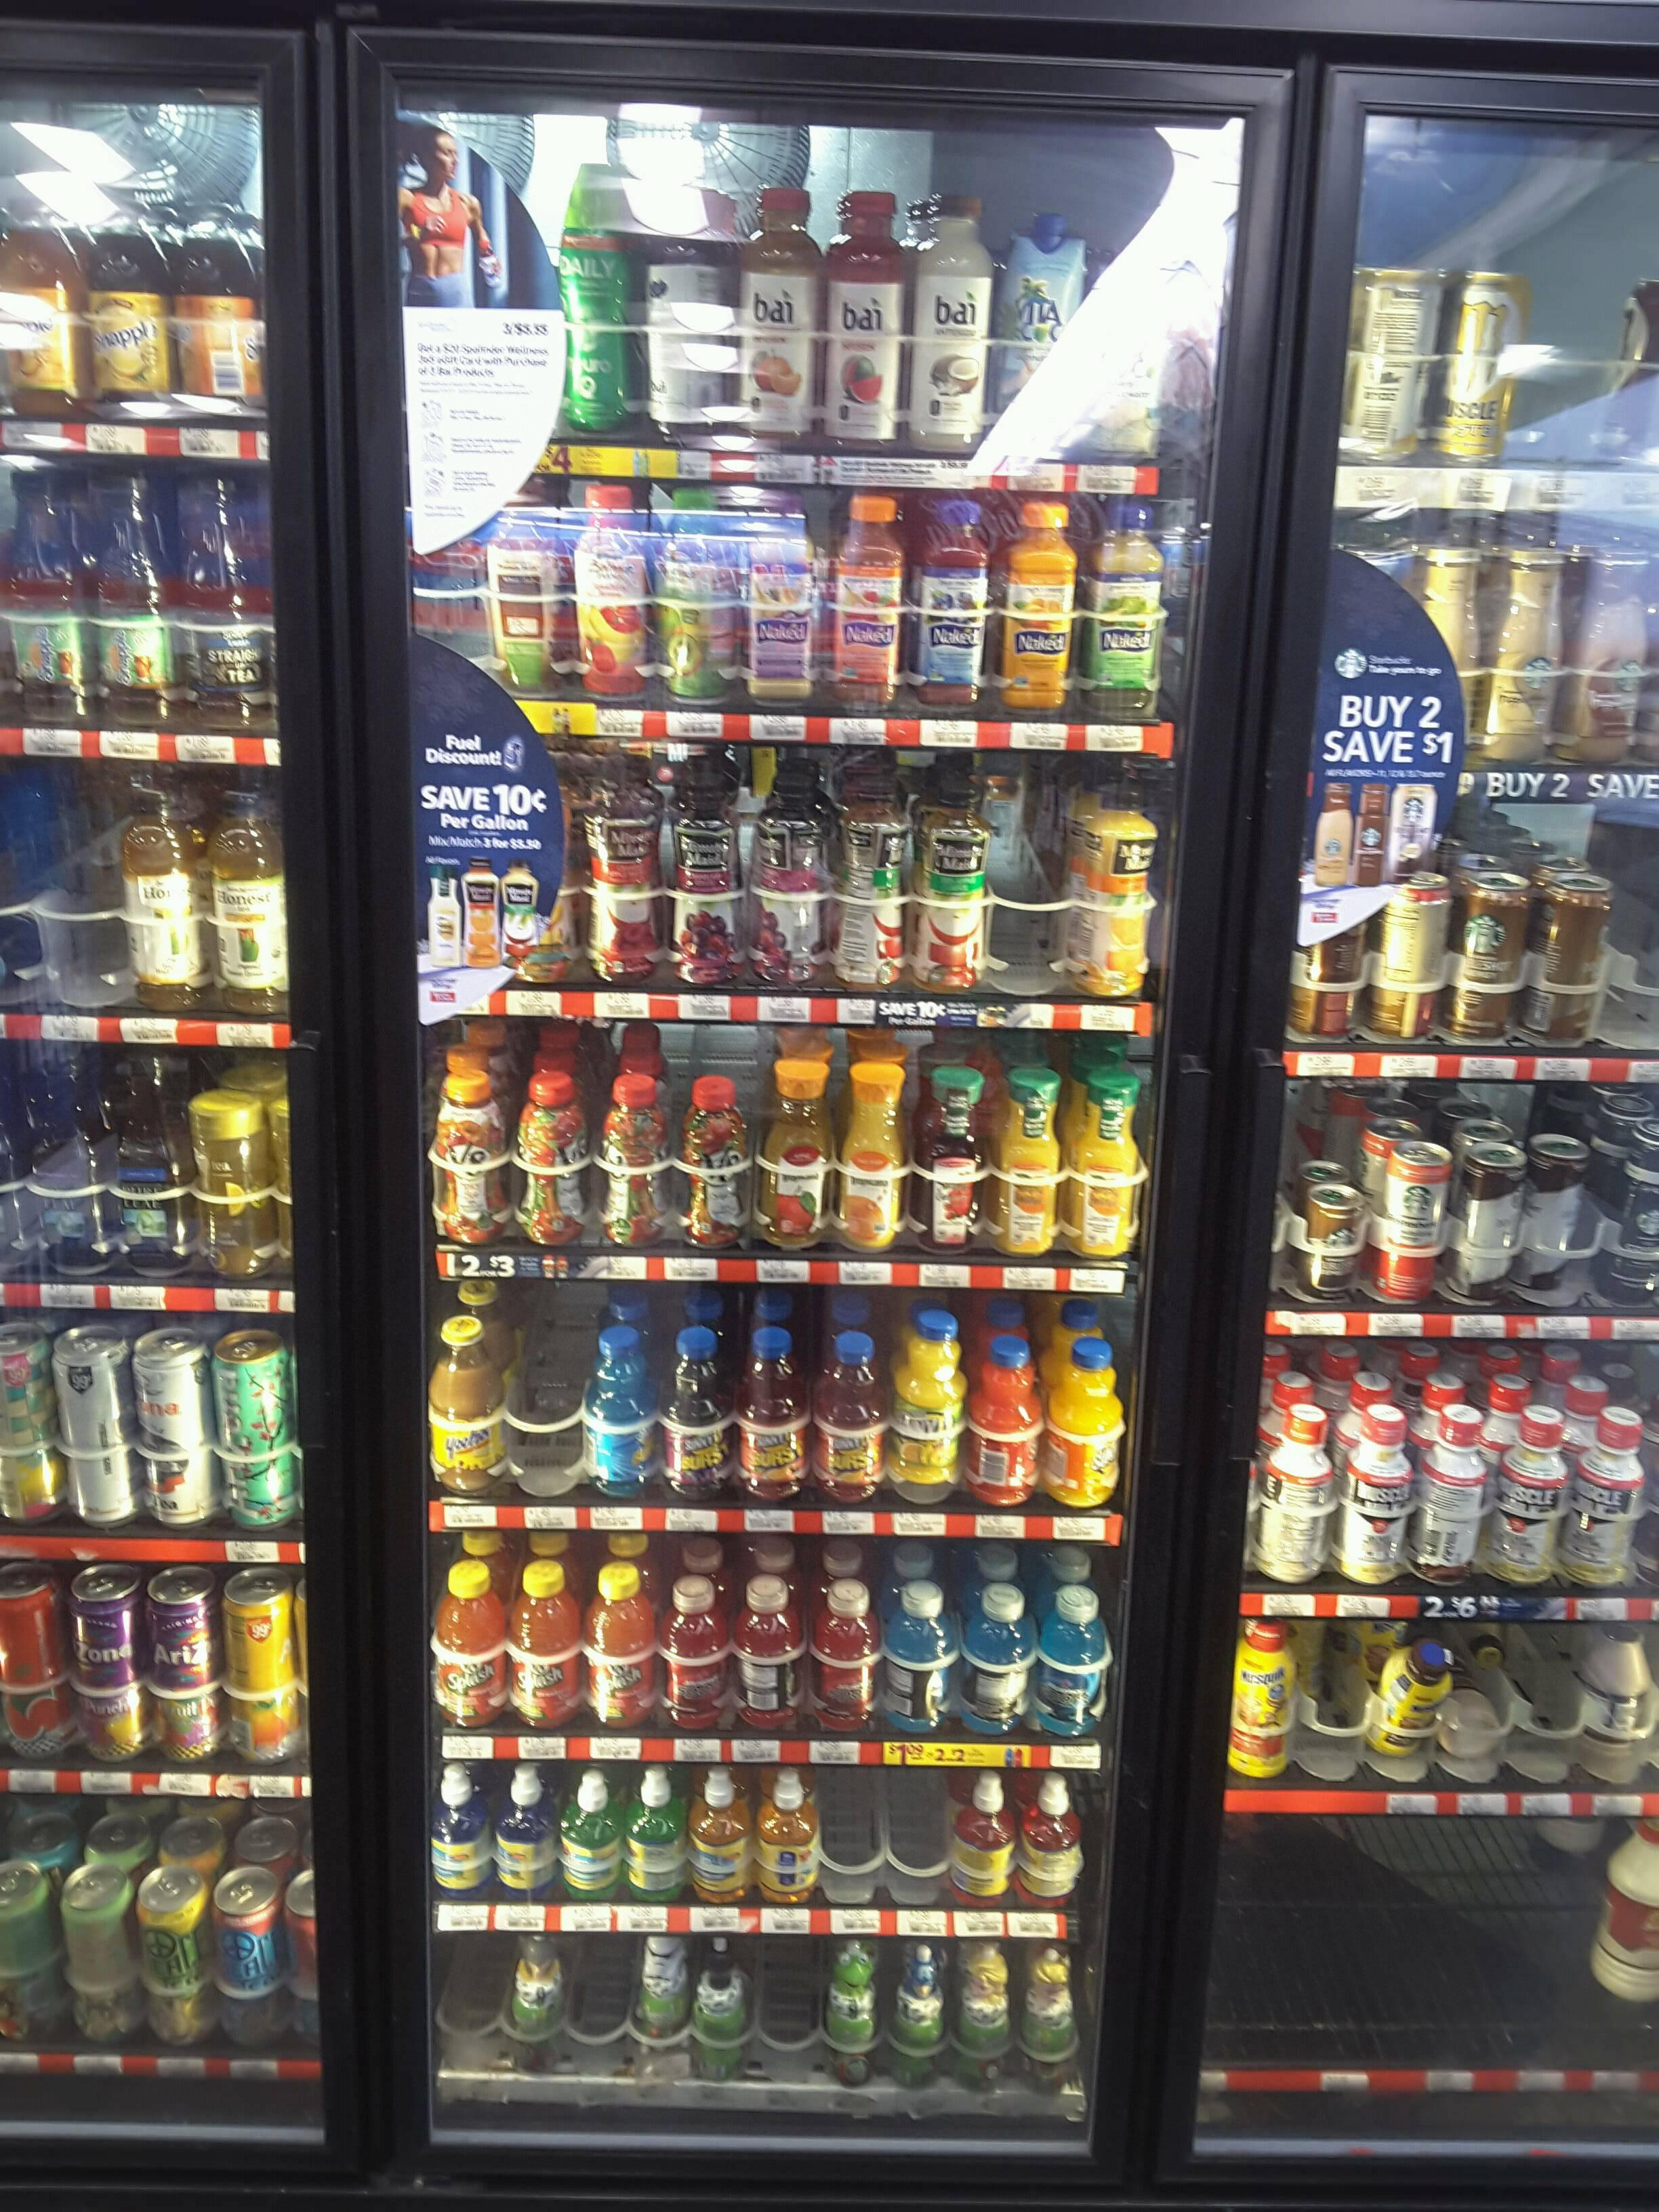empty: (1227, 1851, 1598, 2074), (824, 1775, 939, 1900), (1521, 284, 1601, 462), (516, 1285, 582, 1479), (997, 773, 1053, 981), (765, 1944, 819, 2087), (572, 1937, 627, 2071), (446, 1940, 491, 2071)
misalignment: (1370, 1635, 1504, 1770), (636, 1937, 688, 2045)
